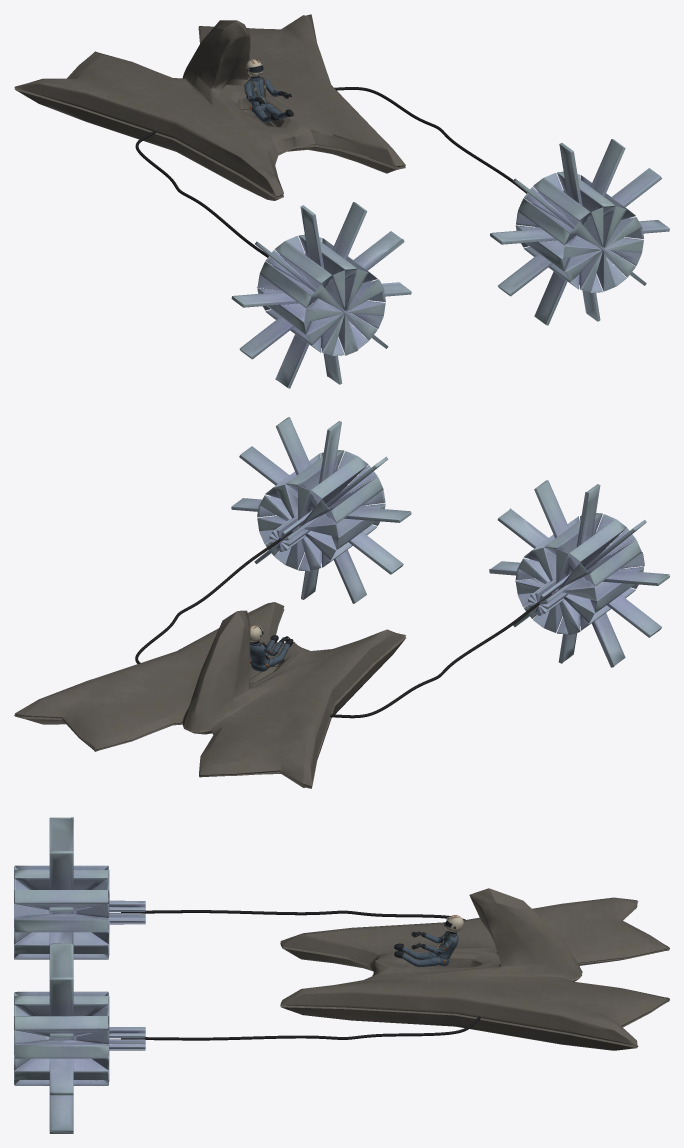
File: needle-hero-v1-r48.glb
3 views of the same model, one above another, from view 1: azimuth 30°, elevation 25°; view 2: azimuth 150°, elevation 25°; view 3: azimuth 270°, elevation 25° (orthographic).
Visible parts, largest first — view 1: needle-body-0, needle-body-2, needle-body-1, needle-pilot-4; view 2: needle-body-0, needle-body-2, needle-body-1, needle-pilot-4; view 3: needle-body-0, needle-body-2, needle-body-1, needle-pilot-4.
Part boxes in pixels (x1,y1,x2,y2): needle-body-0: (14,14,405,200); needle-body-2: (231,139,669,388); needle-body-1: (135,87,526,257); needle-pilot-4: (244,76,286,122); needle-body-0: (14,602,405,788); needle-body-2: (231,417,669,667); needle-body-1: (135,531,551,718); needle-pilot-4: (250,639,289,671); needle-body-0: (280,888,669,1050); needle-body-2: (14,817,145,1133); needle-body-1: (121,910,480,1040); needle-pilot-4: (402,931,458,966).
Bounding box in the file's own units: 11.92 × 4.73 × 15.84.
9 materials, 9 textured.
